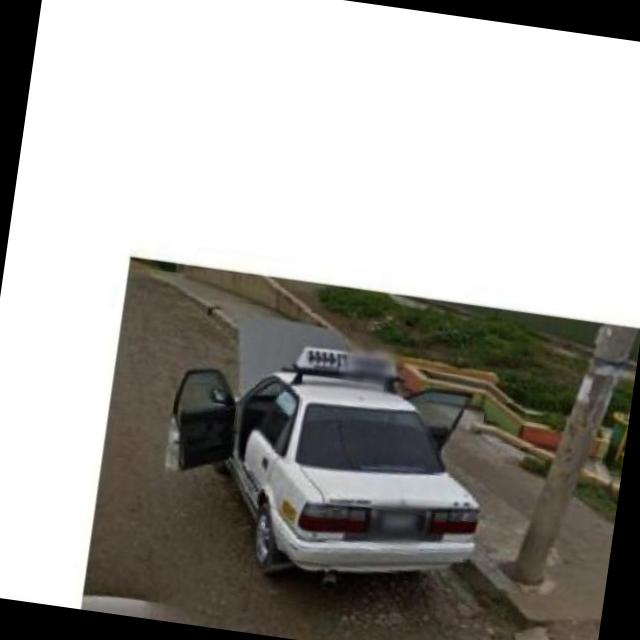car: (136, 314, 498, 626)
